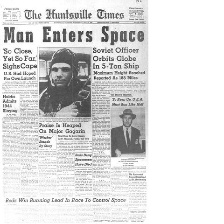news_paper: (0, 0, 153, 224)
